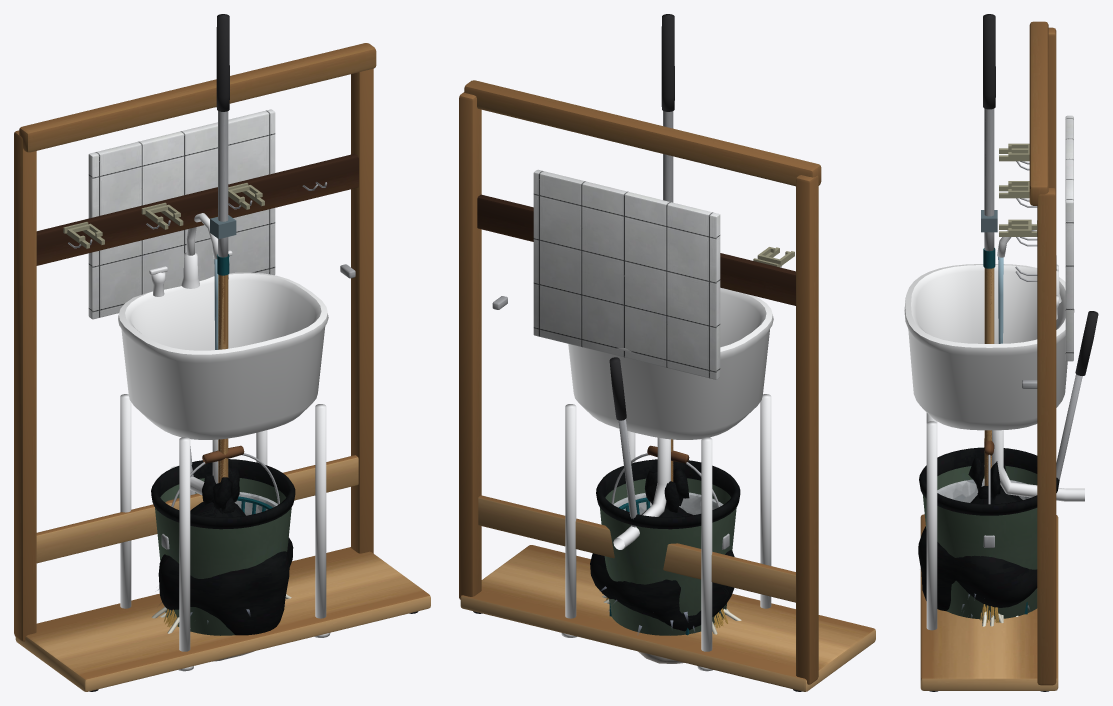
Rendered from study-care-bdad72965e8b.glb.
3 renders of one model, left to right at view 1: azimuth 30°, elevation 25°; view 2: azimuth 150°, elevation 25°; view 3: azimuth 270°, elevation 25°, orthographic. The views are drawn at different scales.
Parts seen in each view (by area): view 1: Frame, Basin, Back, Rail, Bag, Legs, Body.001, Liner, Faucet, Pole.001, Grip.001, Handle (+1 smaller); view 2: Frame, Back, Basin, Legs, Body.001, Bag, Rail, Liner, Grip.001, Pole, Grip, Body (+1 smaller); view 3: Frame, Basin, Body.001, Bag, Legs, Liner, Back, Pole.001, Grip.001, Handle, Pole, Body (+5 smaller).
Part boxes in pixels (x1,y1,x2,y2): Frame: (14, 43, 430, 691); Basin: (118, 272, 328, 439); Back: (88, 109, 275, 319); Rail: (36, 153, 358, 265); Bag: (158, 467, 293, 635); Legs: (120, 394, 330, 671); Body.001: (155, 478, 291, 635); Liner: (151, 459, 295, 529); Faucet: (149, 213, 232, 296); Pole.001: (218, 111, 228, 257); Grip.001: (216, 14, 229, 111); Handle: (218, 275, 228, 482); Frame: (459, 80, 875, 691); Back: (533, 169, 720, 379); Basin: (568, 287, 773, 439); Legs: (561, 394, 771, 671); Body.001: (600, 478, 736, 635); Bag: (590, 468, 734, 631); Rail: (477, 194, 795, 305); Liner: (596, 459, 740, 529); Grip.001: (661, 14, 674, 111); Pole: (618, 419, 637, 527); Grip: (609, 357, 626, 420); Body: (613, 492, 723, 514); Frame: (920, 21, 1058, 690); Basin: (904, 264, 1074, 430); Body.001: (923, 465, 1037, 619); Bag: (918, 456, 1037, 611); Legs: (926, 413, 1084, 630); Liner: (919, 447, 1059, 515); Back: (1065, 115, 1073, 361); Pole.001: (984, 108, 994, 251); Grip.001: (983, 14, 995, 109); Handle: (984, 268, 994, 485); Pole: (1056, 374, 1082, 479); Body: (937, 478, 1031, 502).
Bounding box in the file's own units: 1.03 × 1.79 × 0.5073.
Materials: 21 (13 with a texture image).
